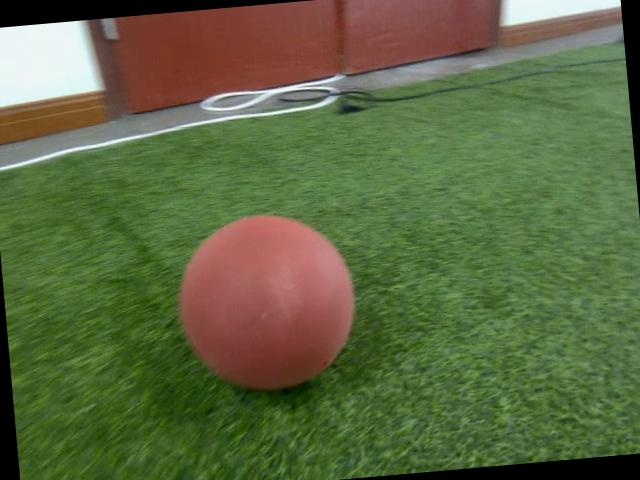red_ball: (175, 207, 360, 394)
